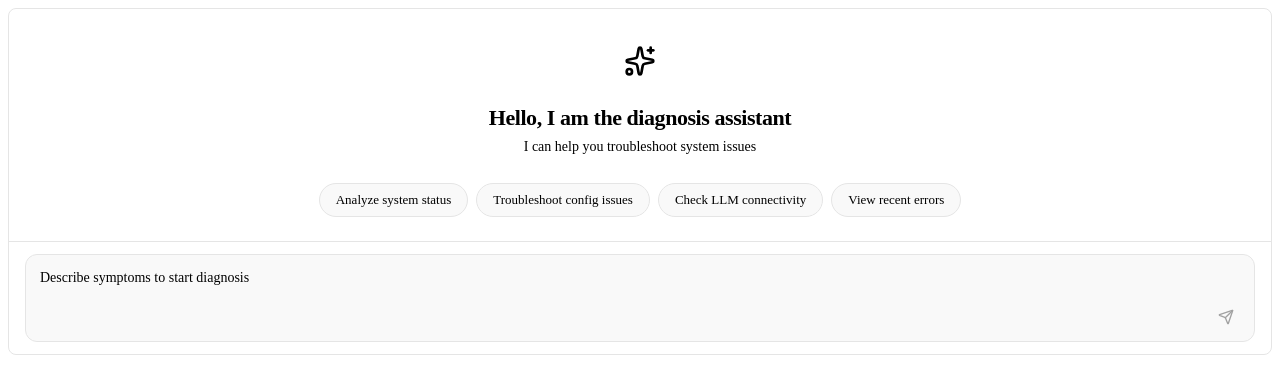
Test: sends a diagnosis message without any model picker or per-session model binding
The image size is (1280, 376).
Type "API got slower" into the text box with placeholder "Describe symptoms to start diagnosis" at coordinates (642, 279), box [38, 265, 1246, 293]
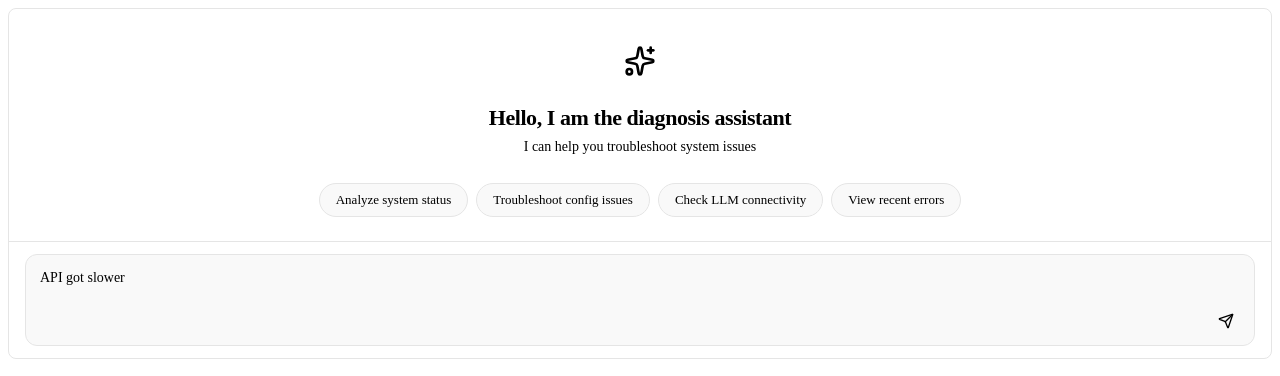
Click the button with class "chat-input-action" at coordinates (1226, 321), box [1210, 305, 1242, 337]
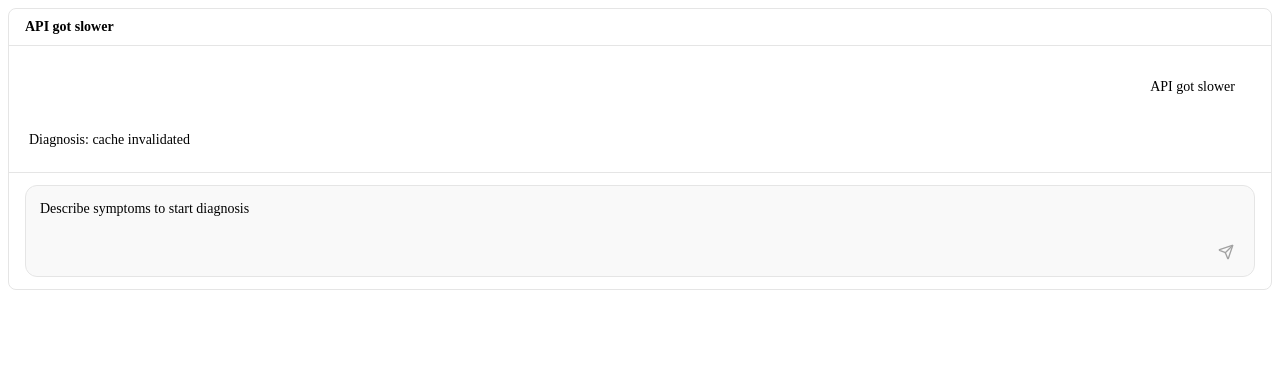
Expected: the text "Diagnosis: cache invalidated" is shown, [29, 132, 190, 147]
